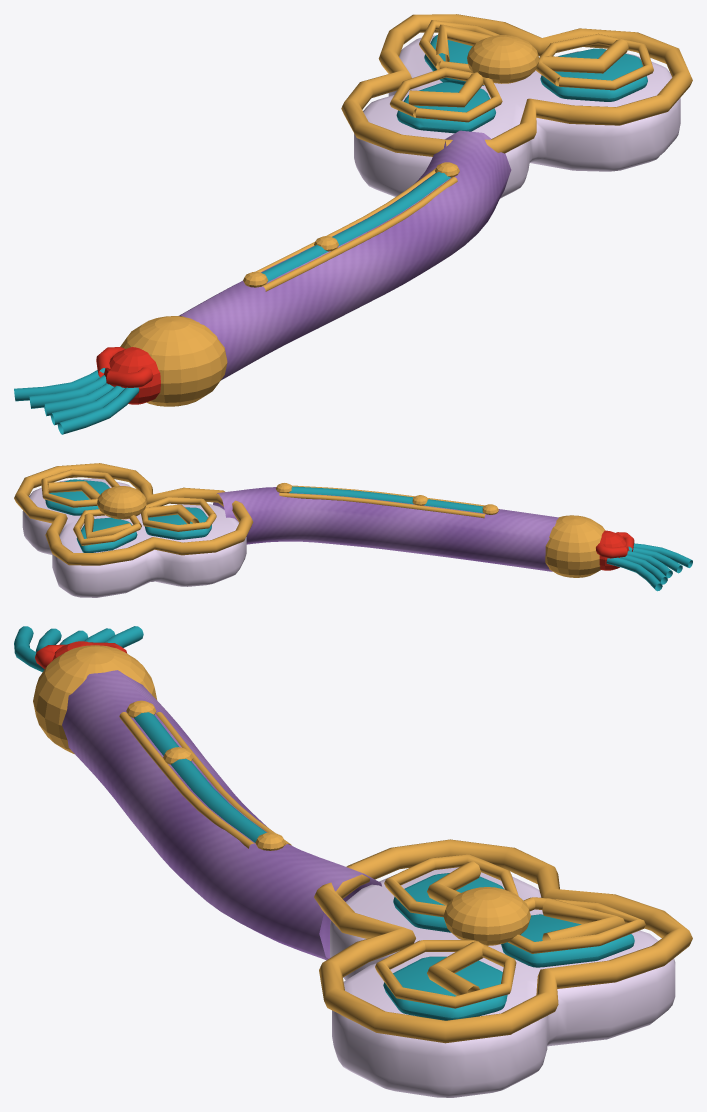
File: ruyi.fbx
3 renders of one model, top to bottom at view 1: azimuth 30°, elevation 25°; view 2: azimuth 150°, elevation 25°; view 3: azimuth 270°, elevation 25°, orthographic. The views are drawn at different scales.
Visible parts, largest first — view 1: continuous-s-curve-jade-handle, single-silhouette-three-lobe-cloud-head, continuous-gold-cloud-border, antique-gold-tail-cap, three-gold-cloisonne-wires, three-peacock-enamel-petals, five-peacock-tassels, three-gold-cloud-curls, warm-gold-cloud-boss, peacock-enamel-handle-inlay, twin-gold-handle-rails, cinnabar-tassel-knot (+2 smaller); view 2: continuous-s-curve-jade-handle, single-silhouette-three-lobe-cloud-head, continuous-gold-cloud-border, three-gold-cloisonne-wires, antique-gold-tail-cap, three-peacock-enamel-petals, five-peacock-tassels, three-gold-cloud-curls, twin-gold-handle-rails, peacock-enamel-handle-inlay, warm-gold-cloud-boss, cinnabar-tassel-knot (+2 smaller); view 3: continuous-s-curve-jade-handle, single-silhouette-three-lobe-cloud-head, continuous-gold-cloud-border, three-gold-cloisonne-wires, three-peacock-enamel-petals, antique-gold-tail-cap, three-gold-cloud-curls, warm-gold-cloud-boss, peacock-enamel-handle-inlay, twin-gold-handle-rails, five-peacock-tassels, three-gold-handle-pearls.
Boxes of the visible parts, bbox=[...] form: continuous-s-curve-jade-handle: bbox=[179, 130, 511, 380]; single-silhouette-three-lobe-cloud-head: bbox=[354, 35, 680, 198]; continuous-gold-cloud-border: bbox=[341, 14, 692, 156]; antique-gold-tail-cap: bbox=[120, 316, 227, 406]; three-gold-cloisonne-wires: bbox=[390, 20, 653, 122]; three-peacock-enamel-petals: bbox=[396, 35, 647, 133]; five-peacock-tassels: bbox=[14, 368, 139, 434]; three-gold-cloud-curls: bbox=[408, 24, 628, 107]; warm-gold-cloud-boss: bbox=[467, 35, 539, 83]; peacock-enamel-handle-inlay: bbox=[261, 172, 450, 281]; twin-gold-handle-rails: bbox=[256, 168, 457, 291]; cinnabar-tassel-knot: bbox=[104, 347, 160, 404]; continuous-s-curve-jade-handle: bbox=[213, 487, 558, 571]; single-silhouette-three-lobe-cloud-head: bbox=[22, 478, 246, 597]; continuous-gold-cloud-border: bbox=[14, 463, 253, 565]; three-gold-cloisonne-wires: bbox=[41, 469, 216, 545]; antique-gold-tail-cap: bbox=[545, 515, 605, 577]; three-peacock-enamel-petals: bbox=[45, 479, 211, 552]; five-peacock-tassels: bbox=[606, 543, 692, 591]; three-gold-cloud-curls: bbox=[47, 481, 199, 538]; twin-gold-handle-rails: bbox=[279, 485, 485, 518]; peacock-enamel-handle-inlay: bbox=[289, 486, 483, 513]; warm-gold-cloud-boss: bbox=[97, 486, 146, 519]; cinnabar-tassel-knot: bbox=[599, 530, 629, 570]; continuous-s-curve-jade-handle: bbox=[62, 670, 381, 960]; single-silhouette-three-lobe-cloud-head: bbox=[330, 867, 675, 1097]; continuous-gold-cloud-border: bbox=[314, 839, 692, 1043]; three-gold-cloisonne-wires: bbox=[375, 854, 645, 1008]; three-peacock-enamel-petals: bbox=[383, 873, 634, 1020]; antique-gold-tail-cap: bbox=[33, 645, 157, 754]; three-gold-cloud-curls: bbox=[427, 861, 625, 995]; warm-gold-cloud-boss: bbox=[443, 887, 530, 945]; peacock-enamel-handle-inlay: bbox=[134, 712, 266, 842]; twin-gold-handle-rails: bbox=[119, 712, 291, 848]; five-peacock-tassels: bbox=[14, 626, 143, 672]; three-gold-handle-pearls: bbox=[126, 700, 285, 850].
Bounding box in the file's own units: 100 × 14.54 × 61.17.
5 materials, 1 textured.
